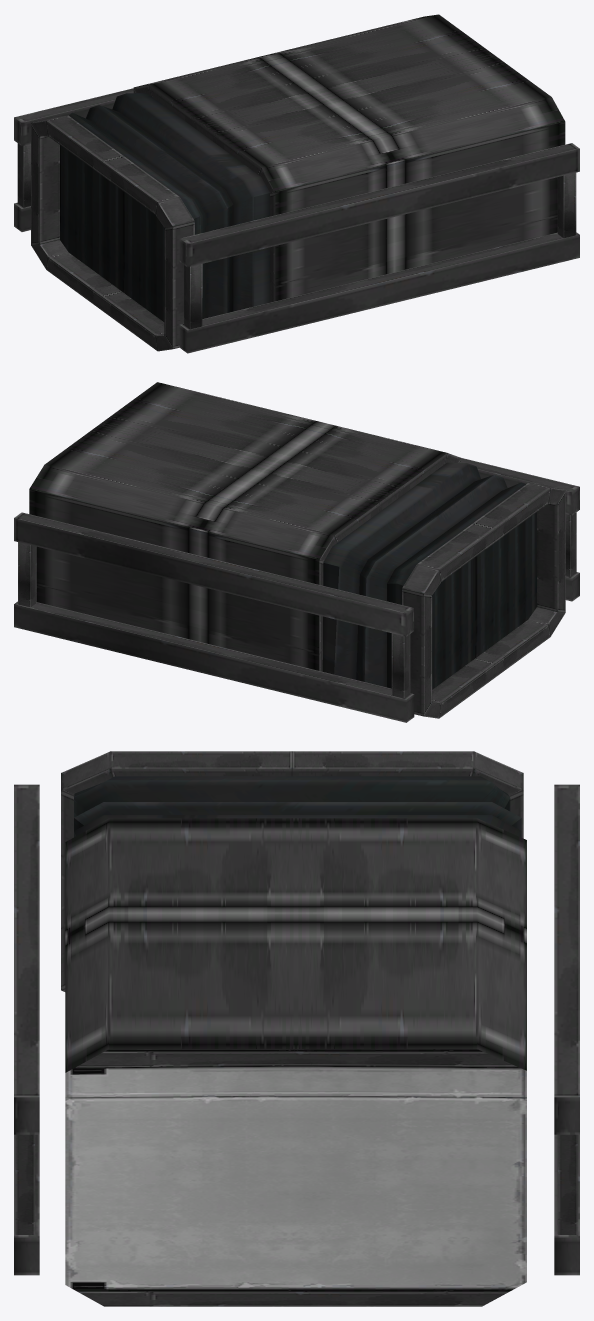
Rendered from DockingArm_05_Connection.FBX.
3 renders of one model, top to bottom at view 1: azimuth 30°, elevation 25°; view 2: azimuth 150°, elevation 25°; view 3: azimuth 270°, elevation 25°, orthographic. The views are drawn at different scales.
Visible parts, largest first — view 1: DockingArm_05_Connection; view 2: DockingArm_05_Connection; view 3: DockingArm_05_Connection.
Part boxes in pixels (x1,y1,x2,y2): DockingArm_05_Connection: (14,14,579,353); DockingArm_05_Connection: (14,382,579,722); DockingArm_05_Connection: (14,751,579,1306).
Size of the model in its own units: 7.89 by 3.04 by 6.03.
